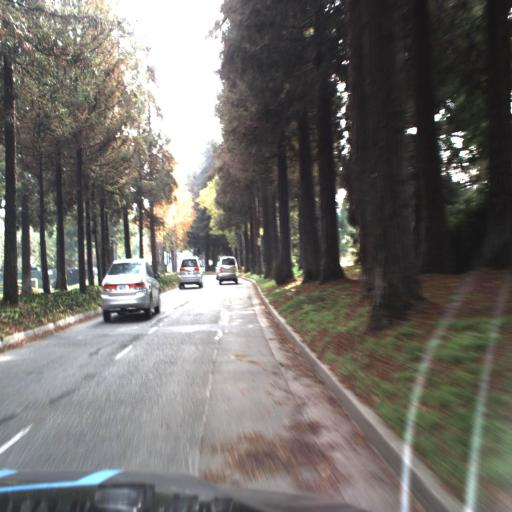car: (100, 259, 159, 320), (174, 253, 206, 294), (216, 252, 243, 286)
